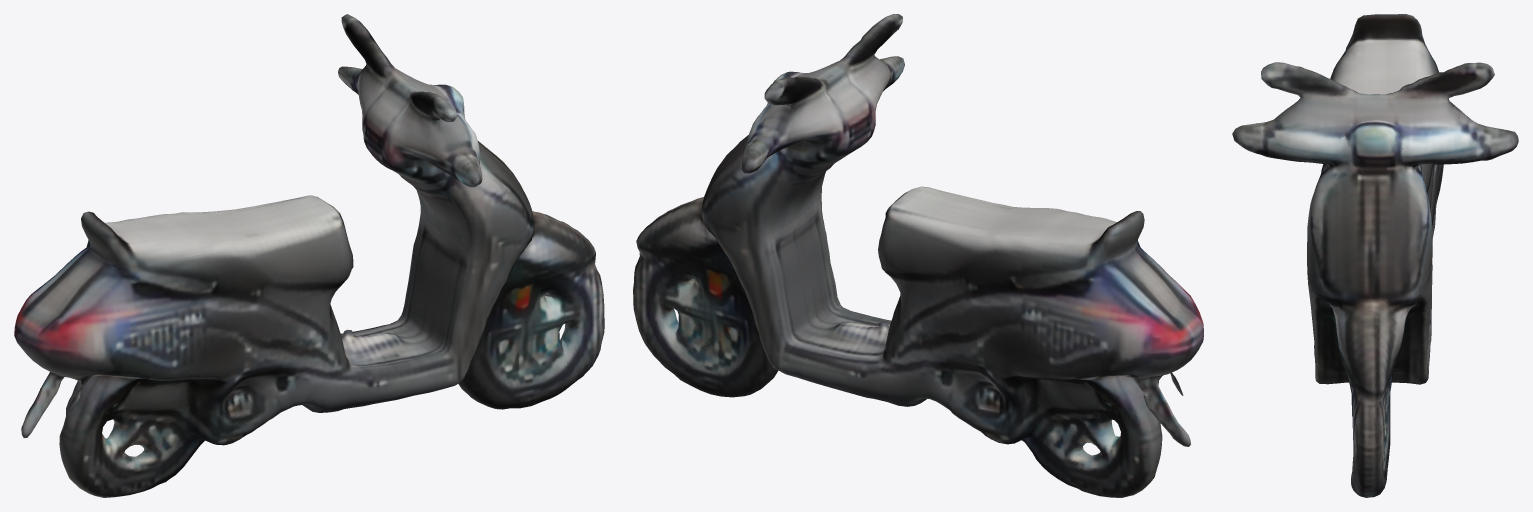
File: activa.glb
3 views of the same model, side by side, from view 1: azimuth 30°, elevation 25°; view 2: azimuth 150°, elevation 25°; view 3: azimuth 270°, elevation 25° (orthographic). The views are drawn at different scales.
Parts seen in each view (by area): view 1: Object_2; view 2: Object_2; view 3: Object_2.
Boxes of the visible parts, <box> form: Object_2: <box>14,14,604,497</box>; Object_2: <box>633,14,1203,497</box>; Object_2: <box>1232,14,1518,497</box>.
Bounding box in the file's own units: 1.8 × 1.14 × 0.8009.
Materials: 1 (1 with a texture image).
